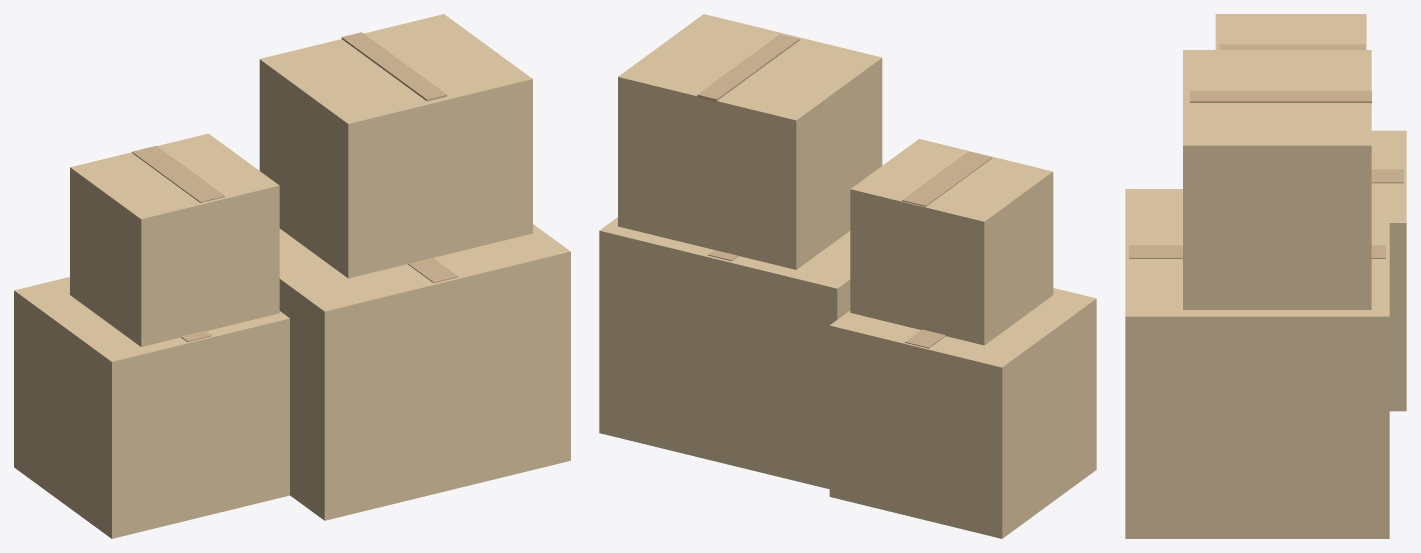
Rendered from 02_cardboard_boxes_5.glb.
3 views of the same model, side by side, from view 1: azimuth 30°, elevation 25°; view 2: azimuth 150°, elevation 25°; view 3: azimuth 270°, elevation 25° (orthographic). The views are drawn at different scales.
Visible parts, largest first — view 1: part_1, part_5, part_3, part_7, part_6, part_8, part_2; view 2: part_5, part_3, part_1, part_7, part_6, part_8; view 3: part_1, part_5, part_3, part_7, part_6, part_2, part_8, part_4.
Boxes of the visible parts, bbox=[...] form: part_1: bbox=[279, 224, 570, 520]; part_5: bbox=[259, 14, 532, 278]; part_3: bbox=[14, 277, 289, 538]; part_7: bbox=[70, 133, 279, 346]; part_6: bbox=[341, 32, 447, 101]; part_8: bbox=[132, 145, 224, 202]; part_2: bbox=[408, 258, 458, 282]; part_5: bbox=[618, 14, 882, 269]; part_3: bbox=[829, 288, 1096, 538]; part_1: bbox=[599, 217, 850, 489]; part_7: bbox=[850, 139, 1053, 345]; part_6: bbox=[697, 34, 799, 102]; part_8: bbox=[902, 151, 992, 206]; part_1: bbox=[1125, 189, 1389, 538]; part_5: bbox=[1183, 50, 1371, 309]; part_3: bbox=[1371, 130, 1406, 411]; part_7: bbox=[1215, 14, 1366, 49]; part_6: bbox=[1190, 90, 1371, 104]; part_2: bbox=[1129, 245, 1385, 258]; part_8: bbox=[1219, 44, 1365, 49]; part_4: bbox=[1371, 169, 1403, 183].
Size of the model in its own units: 1.38 by 1.14 by 0.745.
